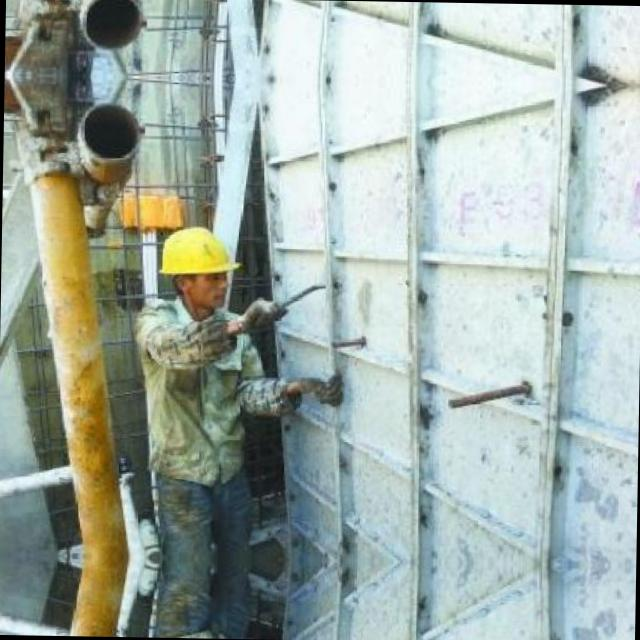helmet: (152, 218, 241, 312)
